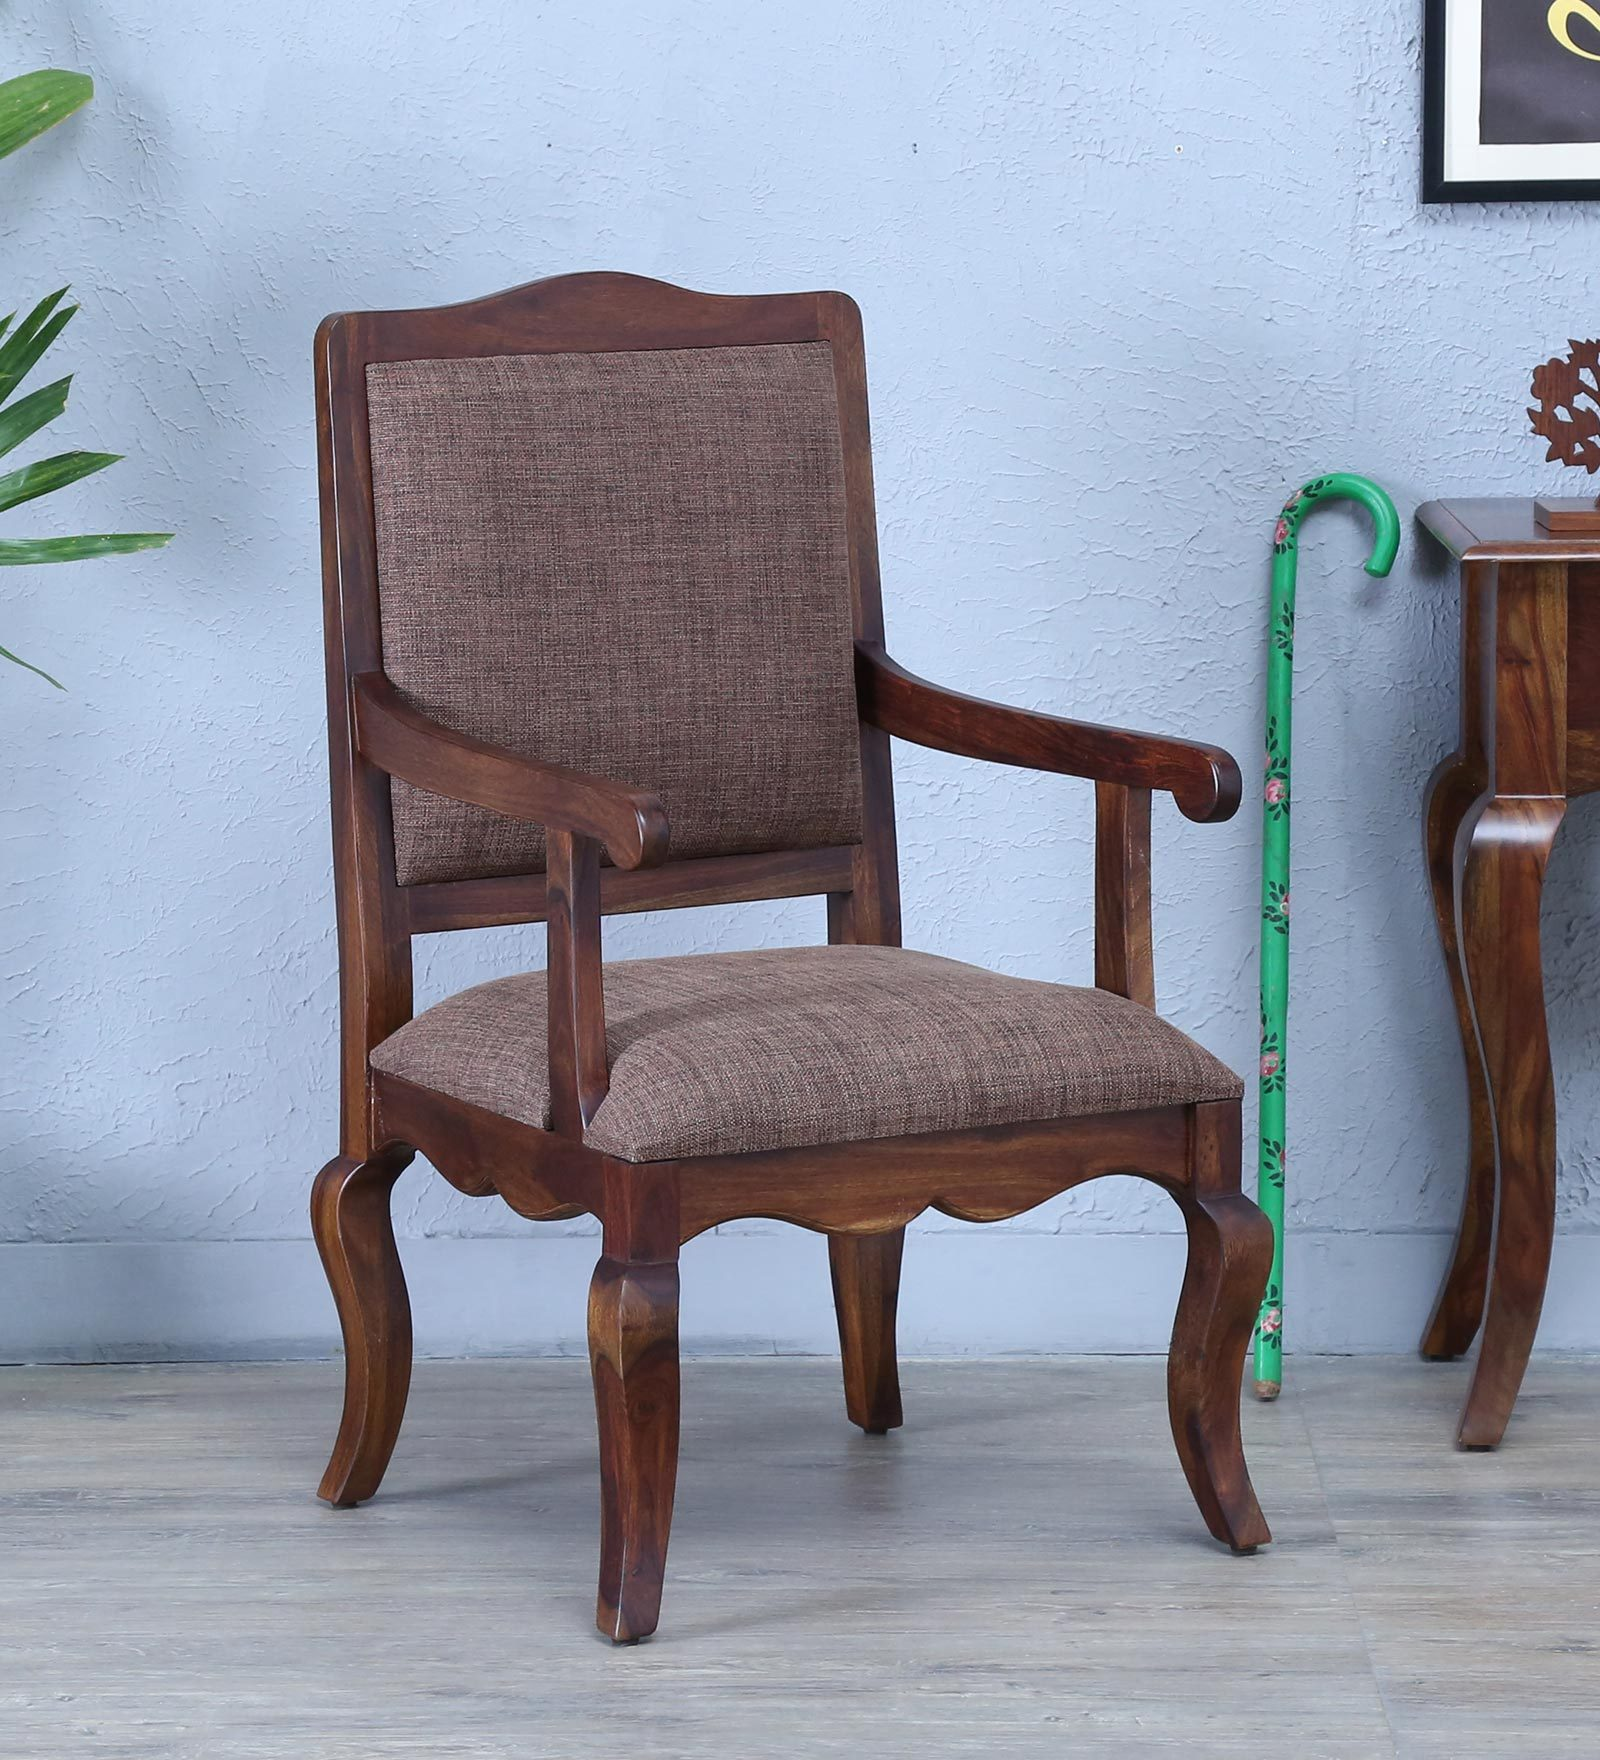Anne Arm Chair in Provincial Teak Finish by Amberville: (280, 258, 1300, 1670)
